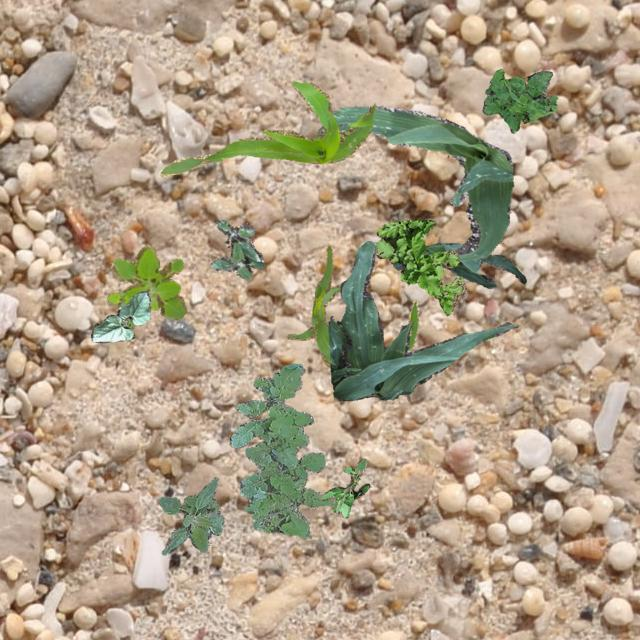crop: (316, 104, 512, 260), (328, 240, 518, 400), (160, 80, 373, 176), (286, 244, 418, 366), (392, 240, 524, 288), (158, 476, 222, 554), (90, 290, 150, 342)
weed: (228, 362, 332, 536), (372, 218, 464, 314), (106, 245, 186, 328), (482, 67, 556, 132), (208, 218, 264, 280), (317, 458, 368, 516)
